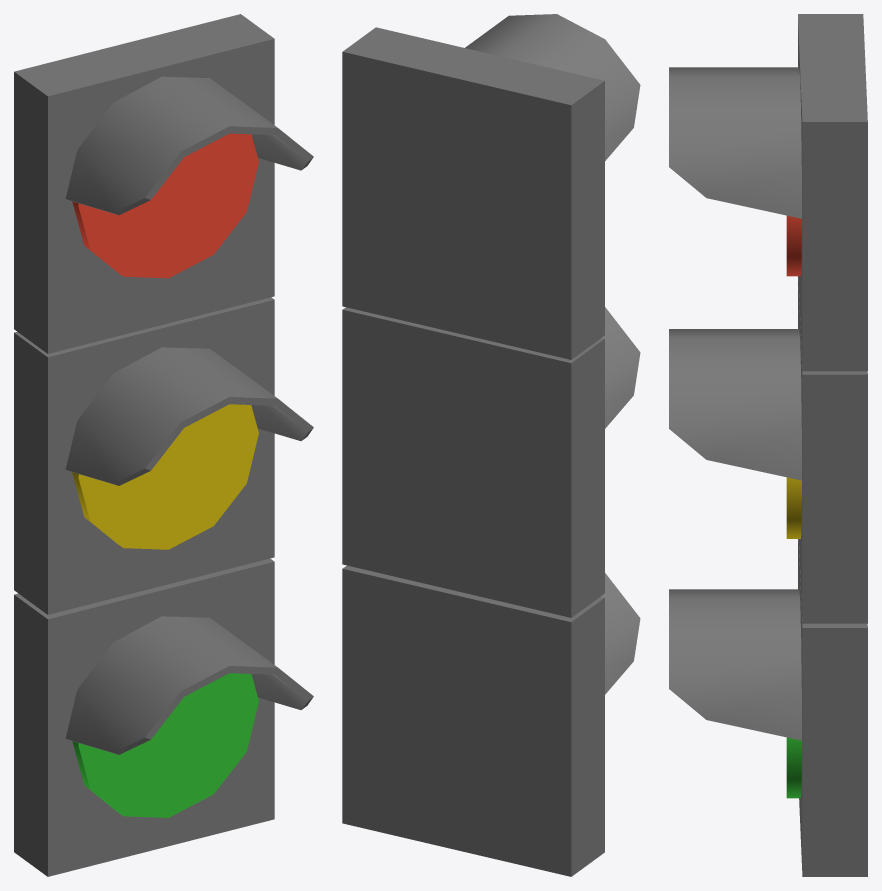
The model's file is SM_Traffic_Light_01.fbx.
3 renders of one model, left to right at view 1: azimuth 30°, elevation 25°; view 2: azimuth 150°, elevation 25°; view 3: azimuth 270°, elevation 25°, orthographic. The views are drawn at different scales.
Parts seen in each view (by area): view 1: SM_Traffic_Light_01; view 2: SM_Traffic_Light_01; view 3: SM_Traffic_Light_01.
Part boxes in pixels (bbox=[...]): SM_Traffic_Light_01: bbox=[14, 14, 313, 876]; SM_Traffic_Light_01: bbox=[342, 14, 640, 876]; SM_Traffic_Light_01: bbox=[669, 14, 867, 876].
Size of the model in its own units: 15.2 by 49.46 by 11.81.
